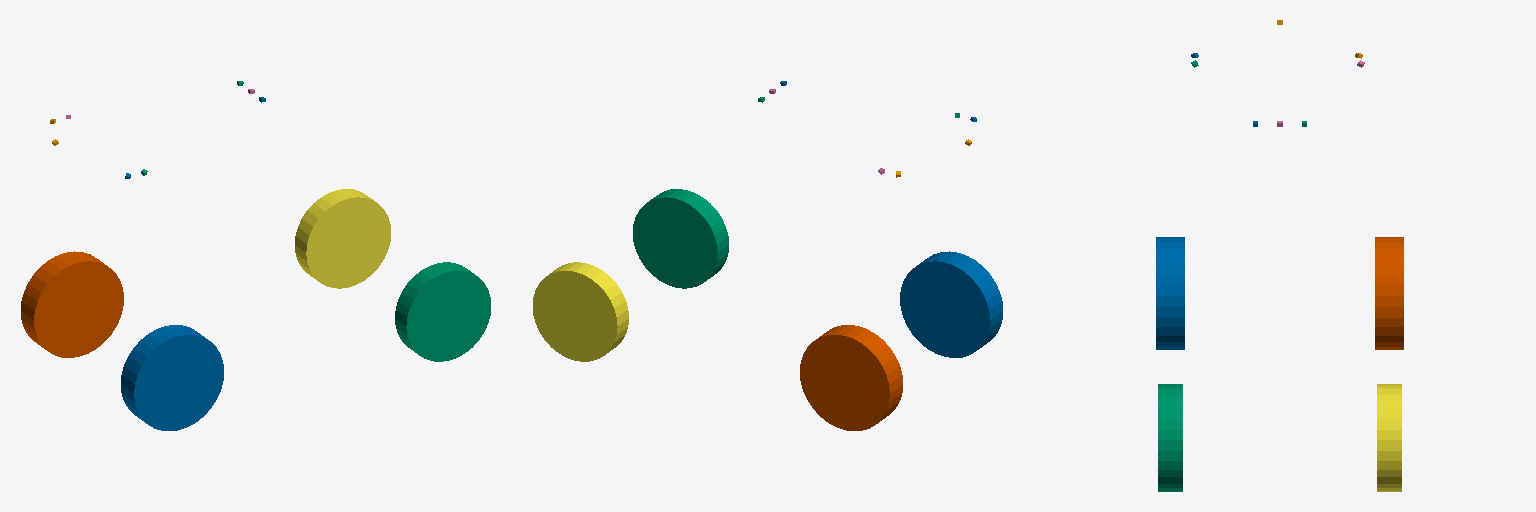
--- Render facts (derived) ---
Views: 3 orthographic renders of the robot side by side, from view 1: azimuth 30°, elevation 25°; view 2: azimuth 150°, elevation 25°; view 3: azimuth 270°, elevation 25°.
Robot: sd_twizy — 26 links, 25 joints (2 revolute, 4 continuous, 19 fixed); root link vehicle_base; default pose: all joints at 0.
Links seen in each view (by area): view 1: rear_left_wheel, rear_right_wheel, front_right_wheel, front_left_wheel; view 2: rear_right_wheel, rear_left_wheel, front_left_wheel, front_right_wheel; view 3: rear_left_wheel, rear_right_wheel, front_left_wheel, front_right_wheel.
Link boxes in pixels (x1,y1,x2,y2): rear_left_wheel: (121, 325, 223, 430); rear_right_wheel: (21, 251, 123, 357); front_right_wheel: (295, 189, 390, 288); front_left_wheel: (395, 262, 490, 361); rear_right_wheel: (800, 325, 902, 430); rear_left_wheel: (900, 251, 1002, 357); front_left_wheel: (633, 189, 728, 288); front_right_wheel: (533, 262, 628, 361); rear_left_wheel: (1156, 237, 1184, 349); rear_right_wheel: (1375, 237, 1403, 349); front_left_wheel: (1158, 384, 1182, 491); front_right_wheel: (1377, 384, 1401, 491).
Size in the robot's own frame: 2.38 by 1.23 by 1.59 metres.
Geometry: only primitive shapes (box / cylinder / sphere) drawn; not drawn: 4 mesh visuals (reference in a form the renderer does not follow).

robot.urdf — sd_twizy:
<?xml version="1.0" ?>
<!-- =================================================================================== -->
<!-- |    This document was autogenerated by xacro from src/streetdrone_model/sd_robot/urdf/sd_twizy.urdf.xacro | -->
<!-- |    EDITING THIS FILE BY HAND IS NOT RECOMMENDED                                 | -->
<!-- =================================================================================== -->
<robot name="sd_twizy" xmlns:xacro="http://www.ros.org/wiki/xacro">
  <gazebo>
    <plugin filename="libgazebo_ros_p3d.so" name="p3d">
      <bodyName>base_link</bodyName>
      <topicName>base_pose_ground_truth</topicName>
      <frameName>map</frameName>
      <updateRate>100.0</updateRate>
    </plugin>
  </gazebo>
  <gazebo reference="base_link">
    --&gt;
        
    <material>Gazebo/Green</material>
  </gazebo>
  <gazebo reference="front_left_wheel">
    <mu1 value="0.85"/>
    <mu2 value="0.85"/>
    <minDepth>0.005</minDepth>
    <kp>1e8</kp>
    <material>Gazebo/Black</material>
  </gazebo>
  <gazebo reference="front_right_wheel">
    <mu1 value="0.85"/>
    <mu2 value="0.85"/>
    <minDepth>0.005</minDepth>
    <kp>1e8</kp>
    <material>Gazebo/Black</material>
  </gazebo>
  <gazebo reference="rear_left_wheel">
    <mu1 value="0.85"/>
    <mu2 value="0.85"/>
    <minDepth>0.005</minDepth>
    <kp>1e8</kp>
    <material>Gazebo/Black</material>
  </gazebo>
  <gazebo reference="rear_right_wheel">
    <mu1 value="0.85"/>
    <mu2 value="0.85"/>
    <minDepth>0.005</minDepth>
    <kp>1e8</kp>
    <material>Gazebo/Black</material>
  </gazebo>
  <link name="front_left_axle">
    <inertial>
      <mass value="1"/>
      <origin xyz="0 0 0"/>
      <inertia ixx="0.004" ixy="0.0" ixz="0.0" iyy="0.004" iyz="0.0" izz="0.004"/>
    </inertial>
  </link>
  <link name="front_right_axle">
    <inertial>
      <mass value="1"/>
      <origin xyz="0 0 0"/>
      <inertia ixx="0.004" ixy="0.0" ixz="0.0" iyy="0.004" iyz="0.0" izz="0.004"/>
    </inertial>
  </link>
  <link name="front_left_wheel">
    <inertial>
      <mass value="9.14"/>
      <origin xyz="0 0 0"/>
      <inertia ixx="0.172365166667" ixy="0.0" ixz="0.0" iyy="0.172365166667" iyz="0.0" izz="0.32092825"/>
    </inertial>
    <collision name="front_left_wheel_collision">
      <geometry>
        <cylinder length="0.125" radius="0.265"/>
      </geometry>
    </collision>
    <visual>
      <geometry>
        <cylinder length="0.125" radius="0.265"/>
      </geometry>
      <material name="tire_mat"/>
    </visual>
  </link>
  <link name="front_right_wheel">
    <inertial>
      <mass value="9.14"/>
      <origin xyz="0 0 0"/>
      <inertia ixx="0.172365166667" ixy="0.0" ixz="0.0" iyy="0.172365166667" iyz="0.0" izz="0.32092825"/>
    </inertial>
    <collision name="front_right_wheel_collision">
      <geometry>
        <cylinder length="0.125" radius="0.265"/>
      </geometry>
    </collision>
    <visual>
      <geometry>
        <cylinder length="0.125" radius="0.265"/>
      </geometry>
      <material name="tire_mat"/>
    </visual>
  </link>
  <link name="rear_left_wheel">
    <inertial>
      <mass value="10.08"/>
      <origin xyz="0 0 0"/>
      <inertia ixx="0.21664272" ixy="0.0" ixz="0.0" iyy="0.21664272" iyz="0.0" izz="0.39796344"/>
    </inertial>
    <collision name="rear_left_wheel_collision">
      <geometry>
        <cylinder length="0.145" radius="0.281"/>
      </geometry>
    </collision>
    <visual>
      <geometry>
        <cylinder length="0.145" radius="0.281"/>
      </geometry>
      <material name="tire_mat"/>
    </visual>
  </link>
  <link name="rear_right_wheel">
    <inertial>
      <mass value="10.08"/>
      <origin xyz="0 0 0"/>
      <inertia ixx="0.21664272" ixy="0.0" ixz="0.0" iyy="0.21664272" iyz="0.0" izz="0.39796344"/>
    </inertial>
    <collision name="rear_right_wheel_collision">
      <geometry>
        <cylinder length="0.145" radius="0.281"/>
      </geometry>
    </collision>
    <visual>
      <geometry>
        <cylinder length="0.145" radius="0.281"/>
      </geometry>
      <material name="tire_mat"/>
    </visual>
  </link>
  <link name="vehicle_base">
    <visual>
      <origin rpy="0 0 0" xyz="0 0 0"/>
      <geometry>
        <box size="0.001 0.001 0.001"/>
      </geometry>
    </visual>
  </link>
  <joint name="vehicle_base_joint" type="fixed">
    <origin rpy="0 0 0" xyz="0 0 0"/>
    <parent link="vehicle_base"/>
    <child link="base_link"/>
  </joint>
  <link name="base_link">
    <inertial>
      <mass value="435"/>
      <origin xyz="0 0 0"/>
      <inertia ixx="243.175" ixy="0" ixz="0" iyy="430.166" iyz="0" izz="430.166"/>
    </inertial>
    <visual>
      <origin rpy="0 0 1.57" xyz="0 0 0"/>
      <geometry>
        <mesh filename="file:///[local-path]/can_ws/src/streetdrone_model/sd_robot/meshes/SDTwizy.stl" scale="0.01 0.01 0.01"/>
      </geometry>
    </visual>
    <collision>
      <origin rpy="-0.0135 0 1.57" xyz="0 0 0.582"/>
      <geometry>
        <box size="1.431 2.352 1.7"/>
      </geometry>
    </collision>
  </link>
  <gazebo>
    <plugin filename="libgazebo_ros_control.so" name="gazebo_ros_control">
      <robotNamespace>/sd_twizy</robotNamespace>
      <controlPeriod>0.001</controlPeriod>
      <robotSimType>gazebo_ros_control/DefaultRobotHWSim</robotSimType>
      <legacyModeNS>true</legacyModeNS>
    </plugin>
  </gazebo>
  <joint name="rear_left_wheel_joint" type="continuous">
    <parent link="base_link"/>
    <child link="rear_left_wheel"/>
    <origin rpy="1.57079633 0 3.14159265" xyz="-0.843 -0.54 0"/>
    <axis xyz="0 0 -1"/>
  </joint>
  <transmission name="rear_left_rear_axle_trans">
    <type>transmission_interface/SimpleTransmission</type>
    <joint name="rear_left_wheel_joint">
      <hardwareInterface>hardware_interface/VelocityJointInterface</hardwareInterface>
    </joint>
    <actuator name="rear_left_rear_axle_act">
      <mechanicalReduction>1</mechanicalReduction>
    </actuator>
  </transmission>
  <joint name="rear_right_wheel_joint" type="continuous">
    <parent link="base_link"/>
    <child link="rear_right_wheel"/>
    <origin rpy="1.57079633 0 3.14159265" xyz="-0.843 0.54 0"/>
    <axis xyz="0 0 -1"/>
  </joint>
  <transmission name="rear_right_rear_axle_trans">
    <type>transmission_interface/SimpleTransmission</type>
    <joint name="rear_right_wheel_joint">
      <hardwareInterface>hardware_interface/VelocityJointInterface</hardwareInterface>
    </joint>
    <actuator name="rear_right_rear_axle_act">
      <mechanicalReduction>1</mechanicalReduction>
    </actuator>
  </transmission>
  <joint name="front_left_steer_joint" type="revolute">
    <parent link="base_link"/>
    <child link="front_left_axle"/>
    <origin rpy="1.57079633 0 3.14159265" xyz="0.843 -0.54 0"/>
    <axis xyz="0 1 0"/>
    <limit effort="500000" lower="-0.785398" upper="0.785398" velocity="250"/>
  </joint>
  <joint name="front_left_wheel_joint" type="continuous">
    <parent link="front_left_axle"/>
    <child link="front_left_wheel"/>
    <origin rpy="0 0 0" xyz="0 0 0"/>
    <axis xyz="0 0 -1"/>
  </joint>
  <transmission name="front_left_steer_joint_trans">
    <type>transmission_interface/SimpleTransmission</type>
    <joint name="front_left_steer_joint">
      <hardwareInterface>hardware_interface/EffortJointInterface</hardwareInterface>
    </joint>
    <actuator name="front_left_steer_joint_act">
      <mechanicalReduction>1</mechanicalReduction>
    </actuator>
  </transmission>
  <transmission name="front_left_rear_axle_trans">
    <type>transmission_interface/SimpleTransmission</type>
    <joint name="front_left_wheel_joint">
      <hardwareInterface>hardware_interface/VelocityJointInterface</hardwareInterface>
    </joint>
    <actuator name="front_left_rear_axle_act">
      <mechanicalReduction>1</mechanicalReduction>
    </actuator>
  </transmission>
  <joint name="front_right_steer_joint" type="revolute">
    <parent link="base_link"/>
    <child link="front_right_axle"/>
    <origin rpy="1.57079633 0 3.14159265" xyz="0.843 0.54 0"/>
    <axis xyz="0 1 0"/>
    <limit effort="500000" lower="-0.785398" upper="0.785398" velocity="250"/>
  </joint>
  <joint name="front_right_wheel_joint" type="continuous">
    <parent link="front_right_axle"/>
    <child link="front_right_wheel"/>
    <origin rpy="0 0 0" xyz="0 0 0"/>
    <axis xyz="0 0 -1"/>
  </joint>
  <transmission name="front_right_steer_joint_trans">
    <type>transmission_interface/SimpleTransmission</type>
    <joint name="front_right_steer_joint">
      <hardwareInterface>hardware_interface/EffortJointInterface</hardwareInterface>
    </joint>
    <actuator name="front_right_steer_joint_act">
      <mechanicalReduction>1</mechanicalReduction>
    </actuator>
  </transmission>
  <transmission name="front_right_rear_axle_trans">
    <type>transmission_interface/SimpleTransmission</type>
    <joint name="front_right_wheel_joint">
      <hardwareInterface>hardware_interface/VelocityJointInterface</hardwareInterface>
    </joint>
    <actuator name="front_right_rear_axle_act">
      <mechanicalReduction>1</mechanicalReduction>
    </actuator>
  </transmission>
  <joint name="velodyne_base_mount_joint" type="fixed">
    <origin rpy="0 -0.0261799387799 0" xyz="-0.681 0 1.445"/>
    <parent link="base_link"/>
    <child link="velodyne_base_link"/>
  </joint>
  <link name="velodyne_base_link">
    <inertial>
      <mass value="0.83"/>
      <origin xyz="0 0 0.03585"/>
      <inertia ixx="0.000908059425" ixy="0" ixz="0" iyy="0.000908059425" iyz="0" izz="0.0011049624"/>
    </inertial>
    <visual>
      <geometry>
        <mesh filename="file:///[local-path]/can_ws/src/streetdrone_model/sd_robot/meshes/VLP16_base_1.dae"/>
      </geometry>
    </visual>
    <visual>
      <geometry>
        <mesh filename="file:///[local-path]/can_ws/src/streetdrone_model/sd_robot/meshes/VLP16_base_2.dae"/>
      </geometry>
    </visual>
    <collision>
      <origin rpy="0 0 0" xyz="0 0 0.03585"/>
      <geometry>
        <cylinder length="0.0717" radius="0.0516"/>
      </geometry>
    </collision>
  </link>
  <joint name="velodyne_base_scan_joint" type="fixed">
    <origin rpy="0 0 0" xyz="0 0 0.0377"/>
    <parent link="velodyne_base_link"/>
    <child link="velodyne"/>
  </joint>
  <link name="velodyne">
    <inertial>
      <mass value="0.01"/>
      <origin xyz="0 0 0"/>
      <inertia ixx="1e-7" ixy="0" ixz="0" iyy="1e-7" iyz="0" izz="1e-7"/>
    </inertial>
    <visual>
      <origin xyz="0 0 -0.0377"/>
      <geometry>
        <mesh filename="file:///[local-path]/can_ws/src/streetdrone_model/sd_robot/meshes/VLP16_scan.dae"/>
      </geometry>
    </visual>
  </link>
  <!-- Gazebo requires the velodyne_gazebo_plugins package -->
  <gazebo reference="velodyne">
    <sensor name="velodyne-VLP16" type="ray">
      <pose>0 0 0 0 0 0</pose>
      <visualize>false</visualize>
      <update_rate>10</update_rate>
      <ray>
        <scan>
          <horizontal>
            <samples>1875</samples>
            <resolution>1</resolution>
            <min_angle>-3.14159265359</min_angle>
            <max_angle>3.14159265359</max_angle>
          </horizontal>
          <vertical>
            <samples>16</samples>
            <resolution>1</resolution>
            <min_angle>-0.261799387799</min_angle>
            <max_angle> 0.261799387799</max_angle>
          </vertical>
        </scan>
        <range>
          <min>0.3</min>
          <max>131.0</max>
          <resolution>0.001</resolution>
        </range>
        <noise>
          <type>gaussian</type>
          <mean>0.0</mean>
          <stddev>0.0</stddev>
        </noise>
      </ray>
      <plugin filename="libgazebo_ros_velodyne_laser.so" name="gazebo_ros_laser_controller">
        <topicName>/points_raw</topicName>
        <frameName>velodyne</frameName>
        <min_range>0.9</min_range>
        <max_range>130.0</max_range>
        <gaussianNoise>0.008</gaussianNoise>
      </plugin>
    </sensor>
  </gazebo>
  <joint name="front_left_camera_joint" type="fixed">
    <axis xyz="0 1 0"/>
    <origin rpy="0 0.087 0" xyz="-0.04 0.12 1.3"/>
    <parent link="base_link"/>
    <child link="front_left_camera_link"/>
  </joint>
  <!-- Camera -->
  <link name="front_left_camera_link">
    <collision>
      <origin rpy="0 0 0" xyz="0 0 0"/>
      <geometry>
        <box size="0.026 0.026 0.0203"/>
      </geometry>
    </collision>
    <visual>
      <origin rpy="0 0 0" xyz="0 0 0"/>
      <geometry>
        <box size="0.026 0.026 0.0203"/>
      </geometry>
      <material name="red"/>
    </visual>
    <inertial>
      <mass value="1e-5"/>
      <origin rpy="0 0 0" xyz="0 0 0"/>
      <inertia ixx="1e-6" ixy="0" ixz="0" iyy="1e-6" iyz="0" izz="1e-6"/>
    </inertial>
  </link>
  <!-- generate an optical frame http://www.ros.org/reps/rep-0103.html#suffix-frames
            so that ros and opencv can operate on the camera frame correctly -->
  <joint name="front_left_camera_optical_joint" type="fixed">
    <!-- these values have to be these values otherwise the gazebo camera image
                won't be aligned properly with the frame it is supposedly originating from -->
    <origin rpy="-1.57079632679 0 -1.57079632679" xyz="0 0 0"/>
    <parent link="front_left_camera_link"/>
    <child link="front_left_camera_link_optical"/>
  </joint>
  <link name="front_left_camera_link_optical"/>
  <gazebo reference="front_left_camera_link">
    <mu1>0.2</mu1>
    <mu2>0.2</mu2>
    <material>Gazebo/Red</material>
    <sensor name="front_left_camera" type="camera">
      <update_rate>30.0</update_rate>
      <camera name="head">
        <horizontal_fov>2.09</horizontal_fov>
        <image>
          <width>1928</width>
          <height>1208</height>
          <format>R8G8B8</format>
        </image>
        <clip>
          <near>0.1</near>
          <far>30</far>
        </clip>
        <noise>
          <type>gaussian</type>
          <!-- Noise is sampled independently per pixel on each frame.
                             That pixel's noise value is added to each of its color
                             channels, which at that point lie in the range [0,1]. -->
          <mean>0.0</mean>
          <stddev>0.007</stddev>
        </noise>
      </camera>
      <plugin filename="libgazebo_ros_camera.so" name="front_left_camera_controller">
        <alwaysOn>true</alwaysOn>
        <updateRate>0.0</updateRate>
        <cameraName>sd_twizy/front_left_camera</cameraName>
        <imageTopicName>image_raw</imageTopicName>
        <cameraInfoTopicName>camera_info</cameraInfoTopicName>
        <frameName>front_left_camera_link_optical</frameName>
        <!-- setting hackBaseline to anything but 0.0 will cause a misalignment
                        between the gazebo sensor image and the frame it is supposed to
                        be attached to -->
        <hackBaseline>0.0</hackBaseline>
        <distortionK1>0.0</distortionK1>
        <distortionK2>0.0</distortionK2>
        <distortionK3>0.0</distortionK3>
        <distortionT1>0.0</distortionT1>
        <distortionT2>0.0</distortionT2>
        <CxPrime>0</CxPrime>
        <Cx>0.0</Cx>
        <Cy>0.0</Cy>
        <focalLength>0.0</focalLength>
      </plugin>
    </sensor>
  </gazebo>
  <joint name="front_right_camera_joint" type="fixed">
    <axis xyz="0 1 0"/>
    <origin rpy="0 0.087 0" xyz="-0.04 -0.12 1.3"/>
    <parent link="base_link"/>
    <child link="front_right_camera_link"/>
  </joint>
  <!-- Camera -->
  <link name="front_right_camera_link">
    <collision>
      <origin rpy="0 0 0" xyz="0 0 0"/>
      <geometry>
        <box size="0.026 0.026 0.0203"/>
      </geometry>
    </collision>
    <visual>
      <origin rpy="0 0 0" xyz="0 0 0"/>
      <geometry>
        <box size="0.026 0.026 0.0203"/>
      </geometry>
      <material name="red"/>
    </visual>
    <inertial>
      <mass value="1e-5"/>
      <origin rpy="0 0 0" xyz="0 0 0"/>
      <inertia ixx="1e-6" ixy="0" ixz="0" iyy="1e-6" iyz="0" izz="1e-6"/>
    </inertial>
  </link>
  <!-- generate an optical frame http://www.ros.org/reps/rep-0103.html#suffix-frames
            so that ros and opencv can operate on the camera frame correctly -->
  <joint name="front_right_camera_optical_joint" type="fixed">
    <!-- these values have to be these values otherwise the gazebo camera image
                won't be aligned properly with the frame it is supposedly originating from -->
    <origin rpy="-1.57079632679 0 -1.57079632679" xyz="0 0 0"/>
    <parent link="front_right_camera_link"/>
    <child link="front_right_camera_link_optical"/>
  </joint>
  <link name="front_right_camera_link_optical"/>
  <gazebo reference="front_right_camera_link">
    <mu1>0.2</mu1>
    <mu2>0.2</mu2>
    <material>Gazebo/Red</material>
    <sensor name="front_right_camera" type="camera">
      <update_rate>30.0</update_rate>
      <camera name="head">
        <horizontal_fov>2.09</horizontal_fov>
        <image>
          <width>1928</width>
          <height>1208</height>
          <format>R8G8B8</format>
        </image>
        <clip>
          <near>0.1</near>
          <far>30</far>
        </clip>
        <noise>
          <type>gaussian</type>
          <!-- Noise is sampled independently per pixel on each frame.
                             That pixel's noise value is added to each of its color
                             channels, which at that point lie in the range [0,1]. -->
          <mean>0.0</mean>
          <stddev>0.007</stddev>
        </noise>
      </camera>
      <plugin filename="libgazebo_ros_camera.so" name="front_right_camera_controller">
        <alwaysOn>true</alwaysOn>
        <updateRate>0.0</updateRate>
        <cameraName>sd_twizy/front_right_camera</cameraName>
        <imageTopicName>image_raw</imageTopicName>
        <cameraInfoTopicName>camera_info</cameraInfoTopicName>
        <frameName>front_right_camera_link_optical</frameName>
        <!-- setting hackBaseline to anything but 0.0 will cause a misalignment
                        between the gazebo sensor image and the frame it is supposed to
                        be attached to -->
        <hackBaseline>0.0</hackBaseline>
        <distortionK1>0.0</distortionK1>
        <distortionK2>0.0</distortionK2>
        <distortionK3>0.0</distortionK3>
        <distortionT1>0.0</distortionT1>
        <distortionT2>0.0</distortionT2>
        <CxPrime>0</CxPrime>
        <Cx>0.0</Cx>
        <Cy>0.0</Cy>
        <focalLength>0.0</focalLength>
      </plugin>
    </sensor>
  </gazebo>
  <joint name="front_center_camera_joint" type="fixed">
    <axis xyz="0 1 0"/>
    <origin rpy="0 0.087 0" xyz="-0.04 0 1.3"/>
    <parent link="base_link"/>
    <child link="front_center_camera_link"/>
  </joint>
  <!-- Camera -->
  <link name="front_center_camera_link">
    <collision>
      <origin rpy="0 0 0" xyz="0 0 0"/>
      <geometry>
        <box size="0.026 0.026 0.0203"/>
      </geometry>
    </collision>
    <visual>
      <origin rpy="0 0 0" xyz="0 0 0"/>
      <geometry>
        <box size="0.026 0.026 0.0203"/>
      </geometry>
      <material name="red"/>
    </visual>
    <inertial>
      <mass value="1e-5"/>
      <origin rpy="0 0 0" xyz="0 0 0"/>
      <inertia ixx="1e-6" ixy="0" ixz="0" iyy="1e-6" iyz="0" izz="1e-6"/>
    </inertial>
  </link>
  <!-- generate an optical frame http://www.ros.org/reps/rep-0103.html#suffix-frames
            so that ros and opencv can operate on the camera frame correctly -->
  <joint name="front_center_camera_optical_joint" type="fixed">
    <!-- these values have to be these values otherwise the gazebo camera image
                won't be aligned properly with the frame it is supposedly originating from -->
    <origin rpy="-1.57079632679 0 -1.57079632679" xyz="0 0 0"/>
    <parent link="front_center_camera_link"/>
    <child link="front_center_camera_link_optical"/>
  </joint>
  <link name="front_center_camera_link_optical"/>
  <gazebo reference="front_center_camera_link">
    <mu1>0.2</mu1>
    <mu2>0.2</mu2>
    <material>Gazebo/Red</material>
    <sensor name="front_center_camera" type="camera">
      <update_rate>30.0</update_rate>
      <camera name="head">
        <horizontal_fov>2.09</horizontal_fov>
        <image>
          <width>1928</width>
          <height>1208</height>
          <format>R8G8B8</format>
        </image>
        <clip>
          <near>0.1</near>
          <far>30</far>
        </clip>
        <noise>
          <type>gaussian</type>
          <!-- Noise is sampled independently per pixel on each frame.
                             That pixel's noise value is added to each of its color
                             channels, which at that point lie in the range [0,1]. -->
          <mean>0.0</mean>
          <stddev>0.007</stddev>
        </noise>
      </camera>
      <plugin filename="libgazebo_ros_camera.so" name="front_center_camera_controller">
        <alwaysOn>true</alwaysOn>
        <updateRate>0.0</updateRate>
        <cameraName>sd_twizy/front_center_camera</cameraName>
        <imageTopicName>image_raw</imageTopicName>
        <cameraInfoTopicName>camera_info</cameraInfoTopicName>
        <frameName>front_center_camera_link_optical</frameName>
        <!-- setting hackBaseline to anything but 0.0 will cause a misalignment
                        between the gazebo sensor image and the frame it is supposed to
                        be attached to -->
        <hackBaseline>0.0</hackBaseline>
        <distortionK1>0.0</distortionK1>
        <distortionK2>0.0</distortionK2>
        <distortionK3>0.0</distortionK3>
        <distortionT1>0.0</distortionT1>
        <distortionT2>0.0</distortionT2>
        <CxPrime>0</CxPrime>
        <Cx>0.0</Cx>
        <Cy>0.0</Cy>
        <focalLength>0.0</focalLength>
      </plugin>
    </sensor>
  </gazebo>
  <joint name="rear_center_camera_joint" type="fixed">
    <axis xyz="0 1 0"/>
    <origin rpy="0 0.2618 3.14" xyz="-1.26 0 1.28"/>
    <parent link="base_link"/>
    <child link="rear_center_camera_link"/>
  </joint>
  <!-- Camera -->
  <link name="rear_center_camera_link">
    <collision>
      <origin rpy="0 0 0" xyz="0 0 0"/>
      <geometry>
        <box size="0.026 0.026 0.0203"/>
      </geometry>
    </collision>
    <visual>
      <origin rpy="0 0 0" xyz="0 0 0"/>
      <geometry>
        <box size="0.026 0.026 0.0203"/>
      </geometry>
      <material name="red"/>
    </visual>
    <inertial>
      <mass value="1e-5"/>
      <origin rpy="0 0 0" xyz="0 0 0"/>
      <inertia ixx="1e-6" ixy="0" ixz="0" iyy="1e-6" iyz="0" izz="1e-6"/>
    </inertial>
  </link>
  <!-- generate an optical frame http://www.ros.org/reps/rep-0103.html#suffix-frames
            so that ros and opencv can operate on the camera frame correctly -->
  <joint name="rear_center_camera_optical_joint" type="fixed">
    <!-- these values have to be these values otherwise the gazebo camera image
                won't be aligned properly with the frame it is supposedly originating from -->
    <origin rpy="-1.57079632679 0 -1.57079632679" xyz="0 0 0"/>
    <parent link="rear_center_camera_link"/>
    <child link="rear_center_camera_link_optical"/>
  </joint>
  <link name="rear_center_camera_link_optical"/>
  <gazebo reference="rear_center_camera_link">
    <mu1>0.2</mu1>
    <mu2>0.2</mu2>
    <material>Gazebo/Red</material>
    <sensor name="rear_center_camera" type="camera">
      <update_rate>30.0</update_rate>
      <camera name="head">
        <horizontal_fov>2.09</horizontal_fov>
        <image>
          <width>1928</width>
          <height>1208</height>
          <format>R8G8B8</format>
        </image>
        <clip>
          <near>0.1</near>
          <far>30</far>
        </clip>
        <noise>
          <type>gaussian</type>
          <!-- Noise is sampled independently per pixel on each frame.
                             That pixel's noise value is added to each of its color
                             channels, which at that point lie in the range [0,1]. -->
          <mean>0.0</mean>
          <stddev>0.007</stddev>
        </noise>
      </camera>
      <plugin filename="libgazebo_ros_camera.so" name="rear_center_camera_controller">
        <alwaysOn>true</alwaysOn>
        <updateRate>0.0</updateRate>
        <cameraName>sd_twizy/rear_center_camera</cameraName>
        <imageTopicName>image_raw</imageTopicName>
        <cameraInfoTopicName>camera_info</cameraInfoTopicName>
        <frameName>rear_center_camera_link_optical</frameName>
        <!-- setting hackBaseline to anything but 0.0 will cause a misalignment
                        between the gazebo sensor image and the frame it is supposed to
                        be attached to -->
        <hackBaseline>0.0</hackBaseline>
        <distortionK1>0.0</distortionK1>
        <distortionK2>0.0</distortionK2>
        <distortionK3>0.0</distortionK3>
        <distortionT1>0.0</distortionT1>
        <distortionT2>0.0</distortionT2>
        <CxPrime>0</CxPrime>
        <Cx>0.0</Cx>
        <Cy>0.0</Cy>
        <focalLength>0.0</focalLength>
      </plugin>
    </sensor>
  </gazebo>
  <joint name="right_forward_camera_joint" type="fixed">
    <axis xyz="0 1 0"/>
    <origin rpy="0 0.244 -1.12" xyz="-0.95 -0.42 1.2"/>
    <parent link="base_link"/>
    <child link="right_forward_camera_link"/>
  </joint>
  <!-- Camera -->
  <link name="right_forward_camera_link">
    <collision>
      <origin rpy="0 0 0" xyz="0 0 0"/>
      <geometry>
        <box size="0.026 0.026 0.0203"/>
      </geometry>
    </collision>
    <visual>
      <origin rpy="0 0 0" xyz="0 0 0"/>
      <geometry>
        <box size="0.026 0.026 0.0203"/>
      </geometry>
      <material name="red"/>
    </visual>
    <inertial>
      <mass value="1e-5"/>
      <origin rpy="0 0 0" xyz="0 0 0"/>
      <inertia ixx="1e-6" ixy="0" ixz="0" iyy="1e-6" iyz="0" izz="1e-6"/>
    </inertial>
  </link>
  <!-- generate an optical frame http://www.ros.org/reps/rep-0103.html#suffix-frames
            so that ros and opencv can operate on the camera frame correctly -->
  <joint name="right_forward_camera_optical_joint" type="fixed">
    <!-- these values have to be these values otherwise the gazebo camera image
                won't be aligned properly with the frame it is supposedly originating from -->
    <origin rpy="-1.57079632679 0 -1.57079632679" xyz="0 0 0"/>
    <parent link="right_forward_camera_link"/>
    <child link="right_forward_camera_link_optical"/>
  </joint>
  <link name="right_forward_camera_link_optical"/>
  <gazebo reference="right_forward_camera_link">
    <mu1>0.2</mu1>
    <mu2>0.2</mu2>
    <material>Gazebo/Red</material>
    <sensor name="right_forward_camera" type="camera">
      <update_rate>30.0</update_rate>
      <camera name="head">
        <horizontal_fov>2.09</horizontal_fov>
        <image>
          <width>1928</width>
          <height>1208</height>
          <format>R8G8B8</format>
        </image>
        <clip>
          <near>0.1</near>
          <far>30</far>
        </clip>
        <noise>
          <type>gaussian</type>
          <!-- Noise is sampled independently per pixel on each frame.
                             That pixel's noise value is added to each of its color
                             channels, which at that point lie in the range [0,1]. -->
          <mean>0.0</mean>
          <stddev>0.007</stddev>
        </noise>
      </camera>
      <plugin filename="libgazebo_ros_camera.so" name="right_forward_camera_controller">
        <alwaysOn>true</alwaysOn>
        <updateRate>0.0</updateRate>
        <cameraName>sd_twizy/right_forward_camera</cameraName>
        <imageTopicName>image_raw</imageTopicName>
        <cameraInfoTopicName>camera_info</cameraInfoTopicName>
        <frameName>right_forward_camera_link_optical</frameName>
        <!-- setting hackBaseline to anything but 0.0 will cause a misalignment
                        between the gazebo sensor image and the frame it is supposed to
                        be attached to -->
        <hackBaseline>0.0</hackBaseline>
        <distortionK1>0.0</distortionK1>
        <distortionK2>0.0</distortionK2>
        <distortionK3>0.0</distortionK3>
        <distortionT1>0.0</distortionT1>
        <distortionT2>0.0</distortionT2>
        <CxPrime>0</CxPrime>
        <Cx>0.0</Cx>
        <Cy>0.0</Cy>
        <focalLength>0.0</focalLength>
      </plugin>
    </sensor>
  </gazebo>
  <joint name="right_rearward_camera_joint" type="fixed">
    <axis xyz="0 1 0"/>
    <origin rpy="0 0.244 -2.18" xyz="-1.05 -0.42 1.2"/>
    <parent link="base_link"/>
    <child link="right_rearward_camera_link"/>
  </joint>
  <!-- Camera -->
  <link name="right_rearward_camera_link">
    <collision>
      <origin rpy="0 0 0" xyz="0 0 0"/>
      <geometry>
        <box size="0.026 0.026 0.0203"/>
      </geometry>
    </collision>
    <visual>
      <origin rpy="0 0 0" xyz="0 0 0"/>
      <geometry>
        <box size="0.026 0.026 0.0203"/>
      </geometry>
      <material name="red"/>
    </visual>
    <inertial>
      <mass value="1e-5"/>
      <origin rpy="0 0 0" xyz="0 0 0"/>
      <inertia ixx="1e-6" ixy="0" ixz="0" iyy="1e-6" iyz="0" izz="1e-6"/>
    </inertial>
  </link>
  <!-- generate an optical frame http://www.ros.org/reps/rep-0103.html#suffix-frames
            so that ros and opencv can operate on the camera frame correctly -->
  <joint name="right_rearward_camera_optical_joint" type="fixed">
    <!-- these values have to be these values otherwise the gazebo camera image
                won't be aligned properly with the frame it is supposedly originating from -->
    <origin rpy="-1.57079632679 0 -1.57079632679" xyz="0 0 0"/>
    <parent link="right_rearward_camera_link"/>
    <child link="right_rearward_camera_link_optical"/>
  </joint>
  <link name="right_rearward_camera_link_optical"/>
  <gazebo reference="right_rearward_camera_link">
    <mu1>0.2</mu1>
    <mu2>0.2</mu2>
    <material>Gazebo/Red</material>
    <sensor name="right_rearward_camera" type="camera">
      <update_rate>30.0</update_rate>
      <camera name="head">
        <horizontal_fov>2.09</horizontal_fov>
        <image>
          <width>1928</width>
          <height>1208</height>
          <format>R8G8B8</format>
        </image>
        <clip>
          <near>0.1</near>
          <far>30</far>
        </clip>
        <noise>
          <type>gaussian</type>
          <!-- Noise is sampled independently per pixel on each frame.
                             That pixel's noise value is added to each of its color
                             channels, which at that point lie in the range [0,1]. -->
          <mean>0.0</mean>
          <stddev>0.007</stddev>
        </noise>
      </camera>
      <plugin filename="libgazebo_ros_camera.so" name="right_rearward_camera_controller">
        <alwaysOn>true</alwaysOn>
        <updateRate>0.0</updateRate>
        <cameraName>sd_twizy/right_rearward_camera</cameraName>
        <imageTopicName>image_raw</imageTopicName>
        <cameraInfoTopicName>camera_info</cameraInfoTopicName>
        <frameName>right_rearward_camera_link_optical</frameName>
        <!-- setting hackBaseline to anything but 0.0 will cause a misalignment
                        between the gazebo sensor image and the frame it is supposed to
                        be attached to -->
        <hackBaseline>0.0</hackBaseline>
        <distortionK1>0.0</distortionK1>
        <distortionK2>0.0</distortionK2>
        <distortionK3>0.0</distortionK3>
        <distortionT1>0.0</distortionT1>
        <distortionT2>0.0</distortionT2>
        <CxPrime>0</CxPrime>
        <Cx>0.0</Cx>
        <Cy>0.0</Cy>
        <focalLength>0.0</focalLength>
      </plugin>
    </sensor>
  </gazebo>
  <joint name="left_forward_camera_joint" type="fixed">
    <axis xyz="0 1 0"/>
    <origin rpy="0 0.2967 1.12" xyz="-0.95 0.4 1.2"/>
    <parent link="base_link"/>
    <child link="left_forward_camera_link"/>
  </joint>
  <!-- Camera -->
  <link name="left_forward_camera_link">
    <collision>
      <origin rpy="0 0 0" xyz="0 0 0"/>
      <geometry>
        <box size="0.026 0.026 0.0203"/>
      </geometry>
    </collision>
    <visual>
      <origin rpy="0 0 0" xyz="0 0 0"/>
      <geometry>
        <box size="0.026 0.026 0.0203"/>
      </geometry>
      <material name="red"/>
    </visual>
    <inertial>
      <mass value="1e-5"/>
      <origin rpy="0 0 0" xyz="0 0 0"/>
      <inertia ixx="1e-6" ixy="0" ixz="0" iyy="1e-6" iyz="0" izz="1e-6"/>
    </inertial>
  </link>
  <!-- generate an optical frame http://www.ros.org/reps/rep-0103.html#suffix-frames
            so that ros and opencv can operate on the camera frame correctly -->
  <joint name="left_forward_camera_optical_joint" type="fixed">
    <!-- these values have to be these values otherwise the gazebo camera image
                won't be aligned properly with the frame it is supposedly originating from -->
    <origin rpy="-1.57079632679 0 -1.57079632679" xyz="0 0 0"/>
    <parent link="left_forward_camera_link"/>
    <child link="left_forward_camera_link_optical"/>
  </joint>
  <link name="left_forward_camera_link_optical"/>
  <gazebo reference="left_forward_camera_link">
    <mu1>0.2</mu1>
    <mu2>0.2</mu2>
    <material>Gazebo/Red</material>
    <sensor name="left_forward_camera" type="camera">
      <update_rate>30.0</update_rate>
      <camera name="head">
        <horizontal_fov>2.09</horizontal_fov>
        <image>
          <width>1928</width>
          <height>1208</height>
          <format>R8G8B8</format>
        </image>
        <clip>
          <near>0.1</near>
          <far>30</far>
        </clip>
        <noise>
          <type>gaussian</type>
          <!-- Noise is sampled independently per pixel on each frame.
                             That pixel's noise value is added to each of its color
                             channels, which at that point lie in the range [0,1]. -->
          <mean>0.0</mean>
          <stddev>0.007</stddev>
        </noise>
      </camera>
      <plugin filename="libgazebo_ros_camera.so" name="left_forward_camera_controller">
        <alwaysOn>true</alwaysOn>
        <updateRate>0.0</updateRate>
        <cameraName>sd_twizy/left_forward_camera</cameraName>
        <imageTopicName>image_raw</imageTopicName>
        <cameraInfoTopicName>camera_info</cameraInfoTopicName>
        <frameName>left_forward_camera_link_optical</frameName>
        <!-- setting hackBaseline to anything but 0.0 will cause a misalignment
                        between the gazebo sensor image and the frame it is supposed to
                        be attached to -->
        <hackBaseline>0.0</hackBaseline>
        <distortionK1>0.0</distortionK1>
        <distortionK2>0.0</distortionK2>
        <distortionK3>0.0</distortionK3>
        <distortionT1>0.0</distortionT1>
        <distortionT2>0.0</distortionT2>
        <CxPrime>0</CxPrime>
        <Cx>0.0</Cx>
        <Cy>0.0</Cy>
        <focalLength>0.0</focalLength>
      </plugin>
    </sensor>
  </gazebo>
  <joint name="left_rearward_camera_joint" type="fixed">
    <axis xyz="0 1 0"/>
    <origin rpy="0 0.2967 2.18" xyz="-1.05 0.39 1.2"/>
    <parent link="base_link"/>
    <child link="left_rearward_camera_link"/>
  </joint>
  <!-- Camera -->
  <link name="left_rearward_camera_link">
    <collision>
      <origin rpy="0 0 0" xyz="0 0 0"/>
      <geometry>
        <box size="0.026 0.026 0.0203"/>
      </geometry>
    </collision>
    <visual>
      <origin rpy="0 0 0" xyz="0 0 0"/>
      <geometry>
        <box size="0.026 0.026 0.0203"/>
      </geometry>
      <material name="red"/>
    </visual>
    <inertial>
      <mass value="1e-5"/>
      <origin rpy="0 0 0" xyz="0 0 0"/>
      <inertia ixx="1e-6" ixy="0" ixz="0" iyy="1e-6" iyz="0" izz="1e-6"/>
    </inertial>
  </link>
  <!-- generate an optical frame http://www.ros.org/reps/rep-0103.html#suffix-frames
            so that ros and opencv can operate on the camera frame correctly -->
  <joint name="left_rearward_camera_optical_joint" type="fixed">
    <!-- these values have to be these values otherwise the gazebo camera image
                won't be aligned properly with the frame it is supposedly originating from -->
    <origin rpy="-1.57079632679 0 -1.57079632679" xyz="0 0 0"/>
    <parent link="left_rearward_camera_link"/>
    <child link="left_rearward_camera_link_optical"/>
  </joint>
  <link name="left_rearward_camera_link_optical"/>
  <gazebo reference="left_rearward_camera_link">
    <mu1>0.2</mu1>
    <mu2>0.2</mu2>
    <material>Gazebo/Red</material>
    <sensor name="left_rearward_camera" type="camera">
      <update_rate>30.0</update_rate>
      <camera name="head">
        <horizontal_fov>2.09</horizontal_fov>
        <image>
          <width>1928</width>
          <height>1208</height>
          <format>R8G8B8</format>
        </image>
        <clip>
          <near>0.1</near>
          <far>30</far>
        </clip>
        <noise>
          <type>gaussian</type>
          <!-- Noise is sampled independently per pixel on each frame.
                             That pixel's noise value is added to each of its color
                             channels, which at that point lie in the range [0,1]. -->
          <mean>0.0</mean>
          <stddev>0.007</stddev>
        </noise>
      </camera>
      <plugin filename="libgazebo_ros_camera.so" name="left_rearward_camera_controller">
        <alwaysOn>true</alwaysOn>
        <updateRate>0.0</updateRate>
        <cameraName>sd_twizy/left_rearward_camera</cameraName>
        <imageTopicName>image_raw</imageTopicName>
        <cameraInfoTopicName>camera_info</cameraInfoTopicName>
        <frameName>left_rearward_camera_link_optical</frameName>
        <!-- setting hackBaseline to anything but 0.0 will cause a misalignment
                        between the gazebo sensor image and the frame it is supposed to
                        be attached to -->
        <hackBaseline>0.0</hackBaseline>
        <distortionK1>0.0</distortionK1>
        <distortionK2>0.0</distortionK2>
        <distortionK3>0.0</distortionK3>
        <distortionT1>0.0</distortionT1>
        <distortionT2>0.0</distortionT2>
        <CxPrime>0</CxPrime>
        <Cx>0.0</Cx>
        <Cy>0.0</Cy>
        <focalLength>0.0</focalLength>
      </plugin>
    </sensor>
  </gazebo>
</robot>
